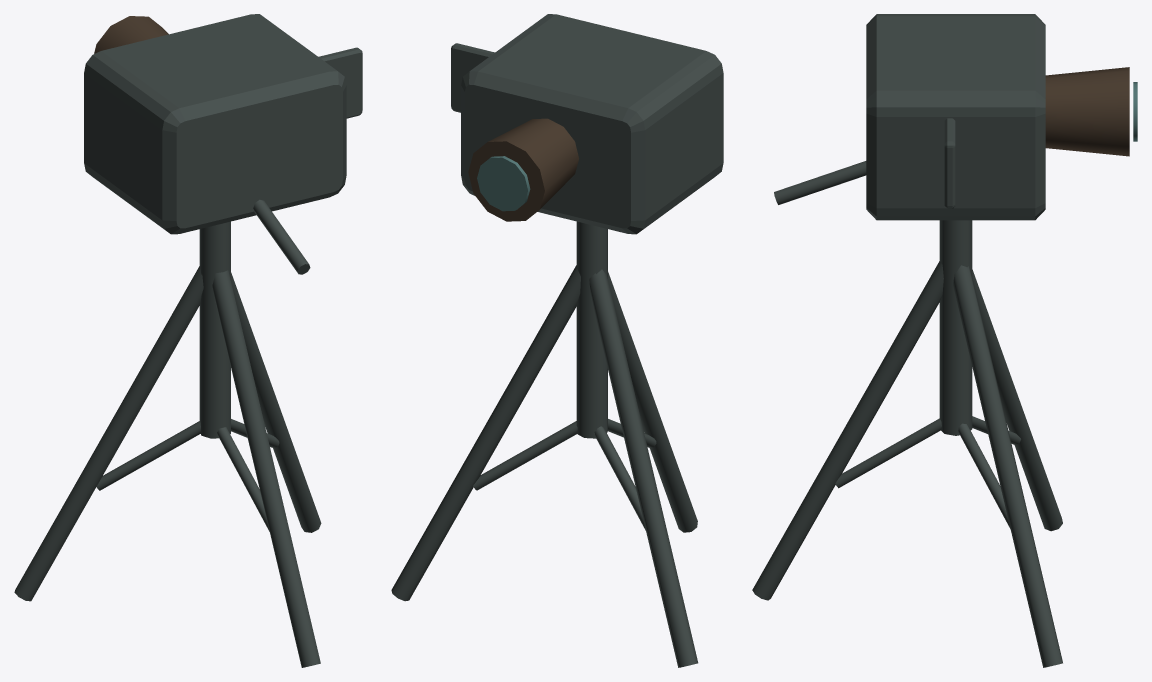
The model's file is camera.glb.
3 views of the same model, side by side, from view 1: azimuth 30°, elevation 25°; view 2: azimuth 150°, elevation 25°; view 3: azimuth 270°, elevation 25° (orthographic).
Visible parts, largest first — view 1: camera; view 2: camera; view 3: camera.
Part boxes in pixels (x1,y1,x2,y2): camera: (14, 14, 362, 667); camera: (391, 14, 723, 667); camera: (752, 14, 1137, 667).
Bounding box in the file's own units: 1.19 × 2.01 × 1.29.
